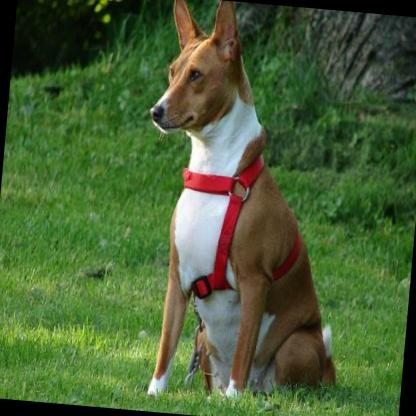basenji: (121, 0, 367, 409)
